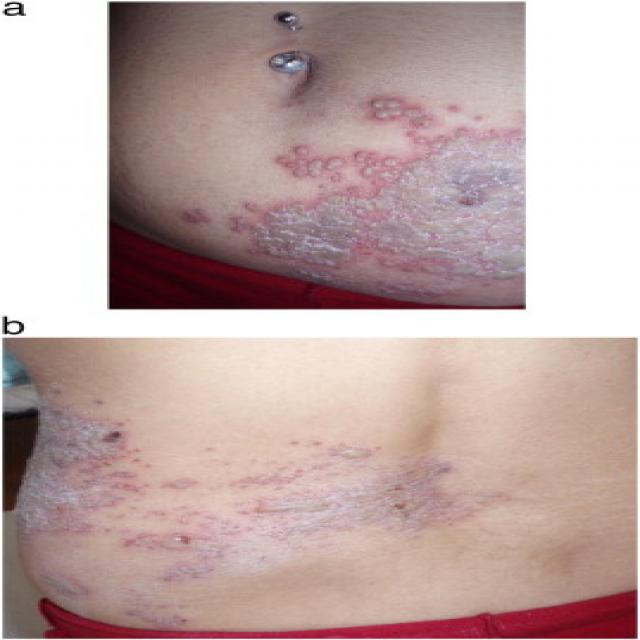herpes zoster: (5, 382, 512, 629), (150, 76, 523, 281)
